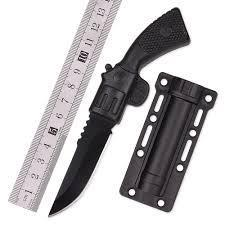Knife: (48, 111, 119, 216)
